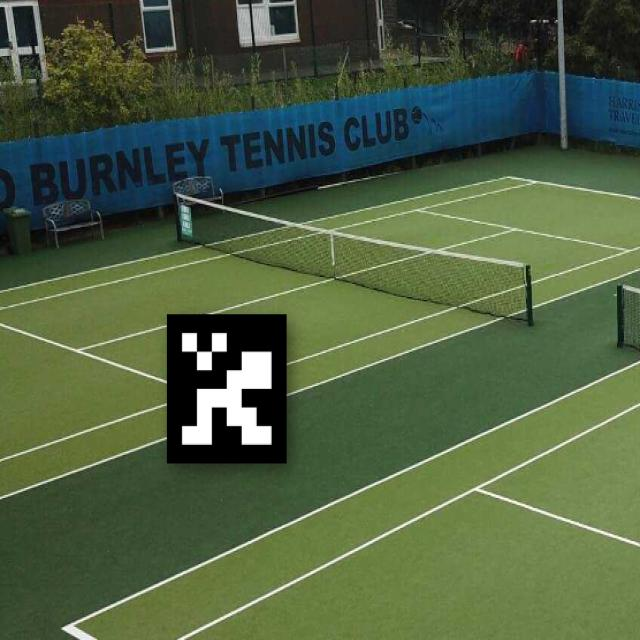marker: (158, 302, 300, 478)
